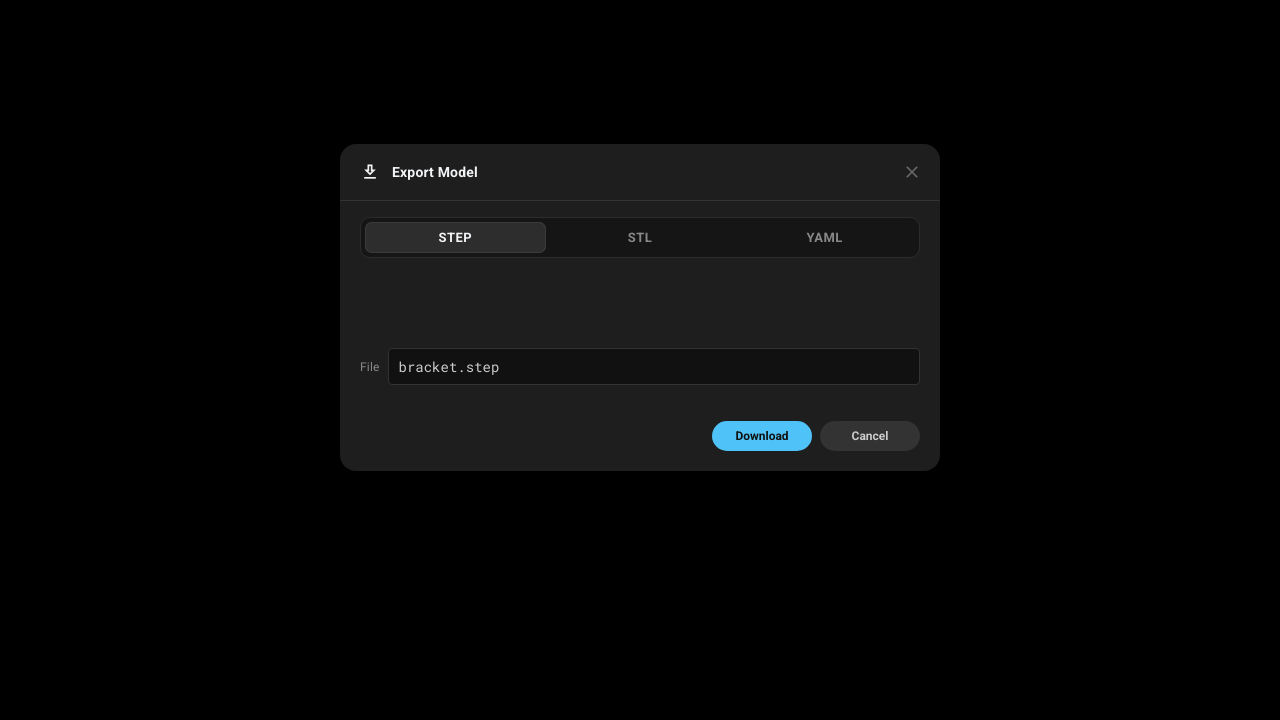
Scenario: PartExportImport worker export › reports no solid geometry when the worker yields no bytes
The width and height of the screenshot is (1280, 720).
Click the button "Download" at x=762, y=436, box [712,421,812,451]
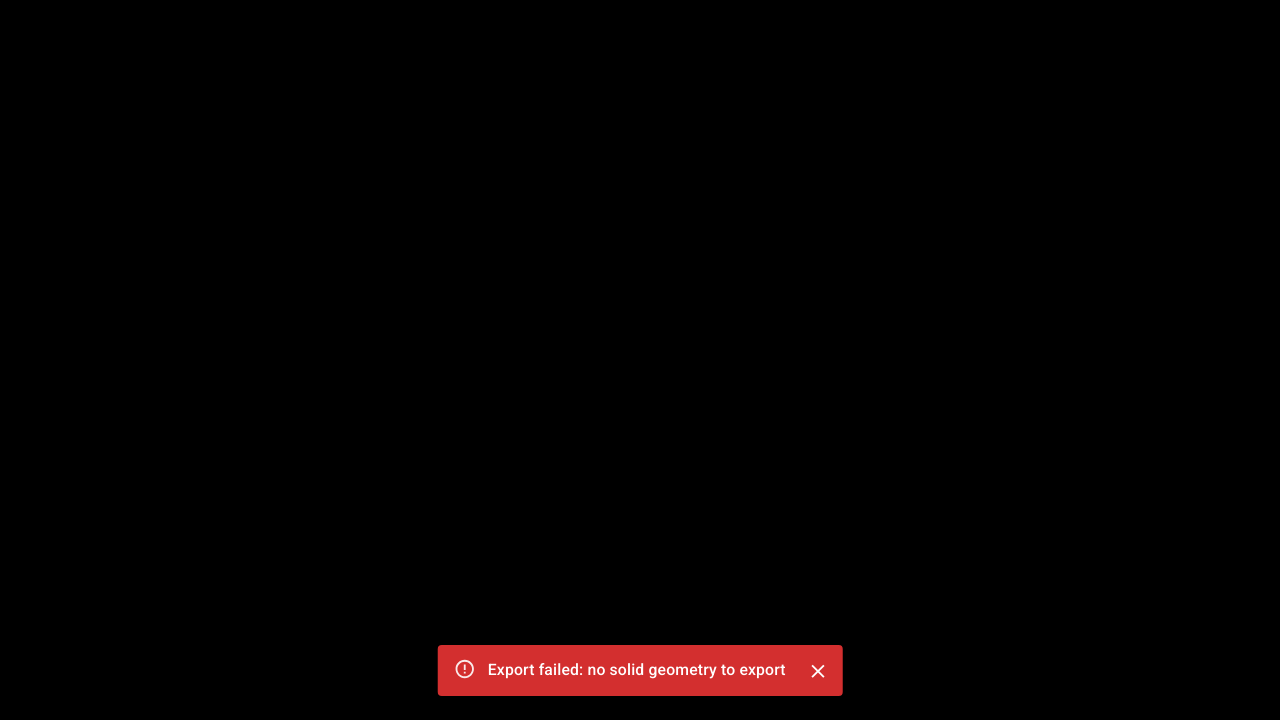
Check: the text "Export failed: no solid geometry to export" is shown, box [488,660,786,680]
Check: the heading "Export Model" is gone
